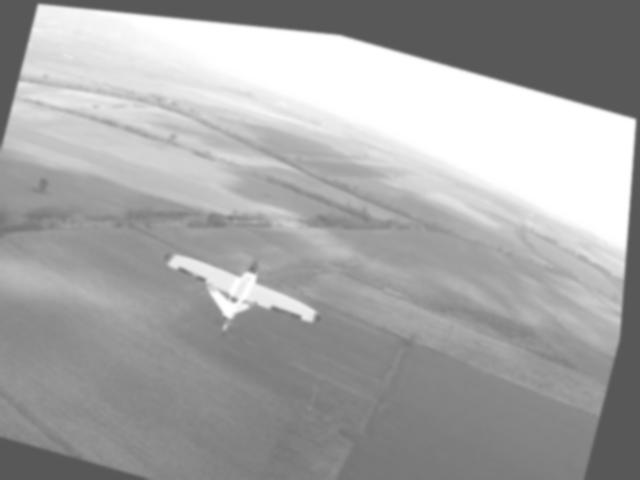hedef: (123, 194, 365, 385)
